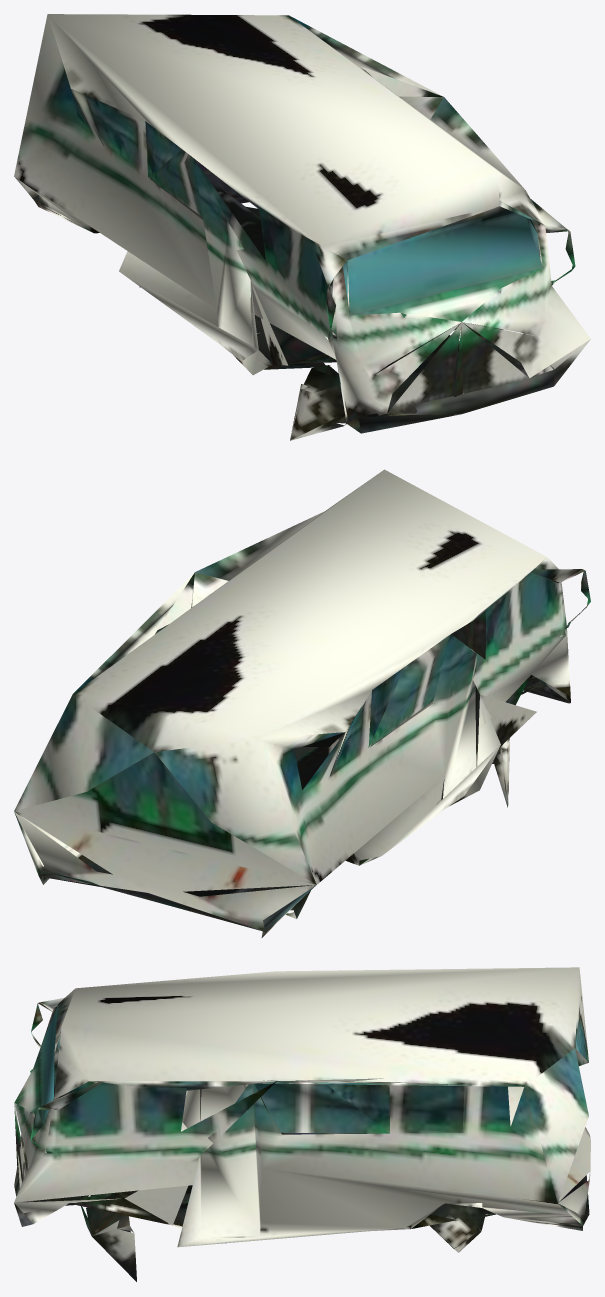
File: danfo-white-green-far.glb
3 renders of one model, top to bottom at view 1: azimuth 30°, elevation 25°; view 2: azimuth 150°, elevation 25°; view 3: azimuth 270°, elevation 25°, orthographic. The views are drawn at different scales.
Visible parts, largest first — view 1: danfo-far; view 2: danfo-far; view 3: danfo-far.
Part boxes in pixels (x1,y1,x2,y2): danfo-far: (14, 14, 590, 440); danfo-far: (14, 469, 590, 937); danfo-far: (14, 967, 590, 1281).
Size of the model in its own units: 2.59 by 2.25 by 4.87.
Materials: 1 (1 with a texture image).
